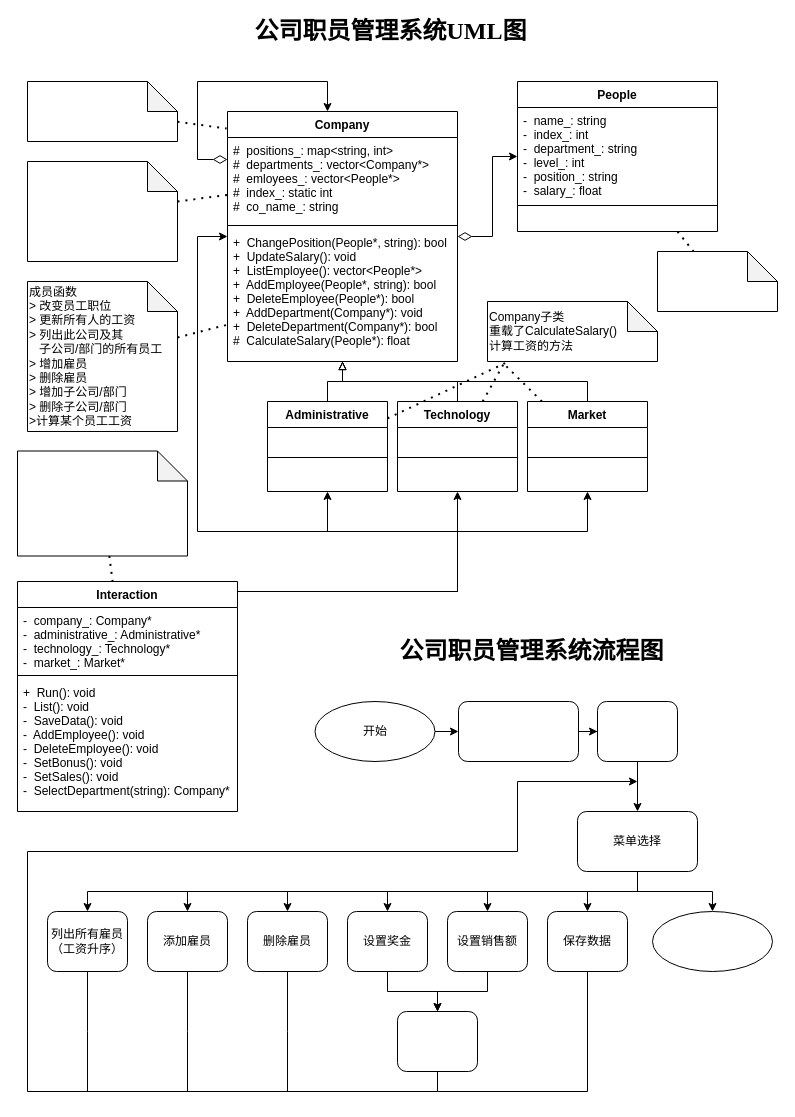
The diagram is 795 pixels wide and 1117 high, and some of its shapes have lost their labels. The centre of each missing label's shape, as x and y in pixels:
"> 有公司/部门名称； > 用map定义了该 公司/部门的职位 和对应等级； > 静态int成员变量 给每个人独有的编号；" belongs at point 102,211.
"Company类 存储了公司员工 和子公司/部门； 能够构造People对象；" belongs at point 102,111.
"People类 存储人的信息 姓名，编号，部门，等级，职位，工资" belongs at point 717,281.
"交互类 构造了Company对象 作为整个公司； 同时构造了三个不同的部门， 将他们添加进Company对象 的子公司向量中。" belongs at point 102,503.
"更新对应部门工资" belongs at point 437,1041.
"更新所有雇员工资" belongs at point 637,731.
"读取存储人员与配置" belongs at point 518,731.
"退出" belongs at point 712,941.
